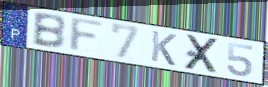5: (226, 41, 255, 78)
7: (109, 22, 143, 62)
B: (31, 12, 68, 50)
F: (67, 16, 108, 54)
K: (149, 29, 178, 68)
X: (182, 33, 221, 75)
